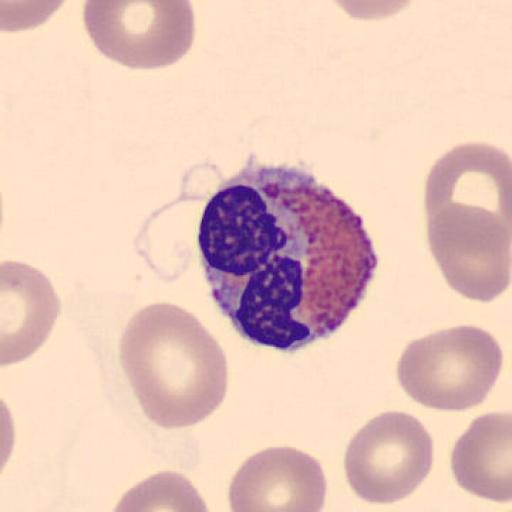RBC: (116, 298, 230, 431), (424, 138, 512, 305), (130, 156, 227, 285), (421, 139, 512, 253), (395, 323, 504, 413), (342, 410, 436, 506), (426, 202, 511, 304), (131, 185, 216, 283), (82, 1, 197, 71), (226, 443, 329, 512), (2, 259, 61, 366), (449, 409, 512, 505), (108, 468, 212, 512), (2, 0, 73, 34), (326, 0, 424, 21), (0, 394, 17, 476)
WBC: (194, 159, 379, 354)
